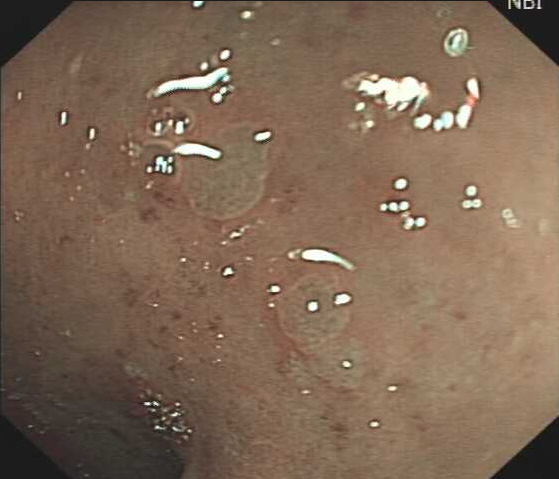others: (154, 117, 273, 223), (268, 270, 368, 391)
